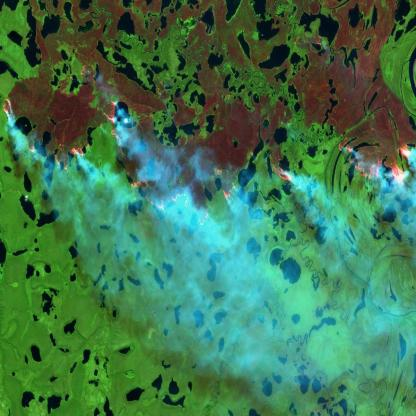fire: (0, 57, 416, 231)
